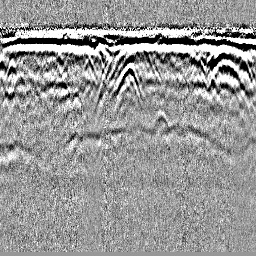cavity: (111, 62, 144, 102)
